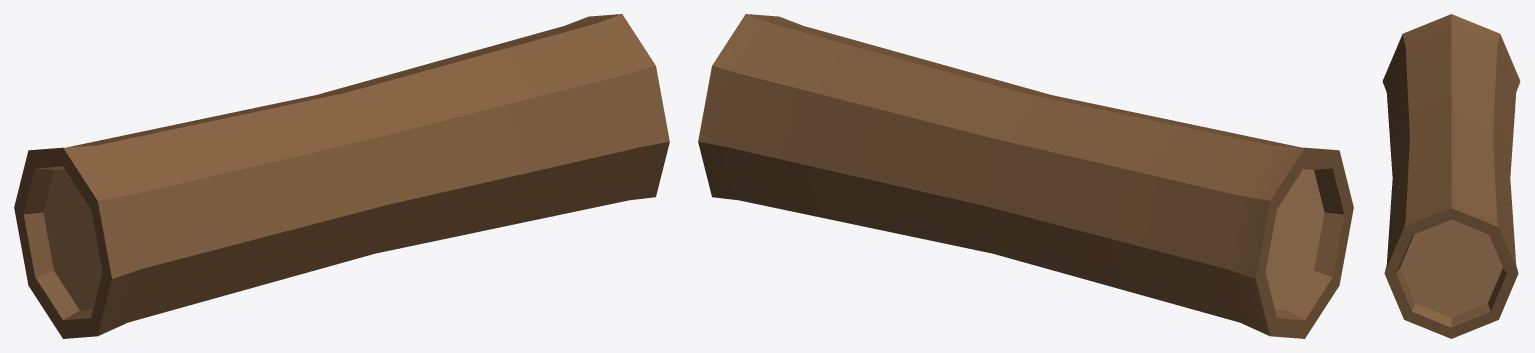
File: Geo_FireWood.fbx
The picture shows the model from 3 angles, left to right: view 1: azimuth 30°, elevation 25°; view 2: azimuth 150°, elevation 25°; view 3: azimuth 270°, elevation 25°; orthographic projection. The views are drawn at different scales.
Visible parts, largest first — view 1: Firewood01; view 2: Firewood01; view 3: Firewood01.
Boxes of the visible parts, x1,y1,x2,y2 form: Firewood01: (14,14,669,338); Firewood01: (698,14,1353,338); Firewood01: (1382,14,1520,338).
Bounding box in the file's own units: 36.98 × 12.09 × 11.23.
